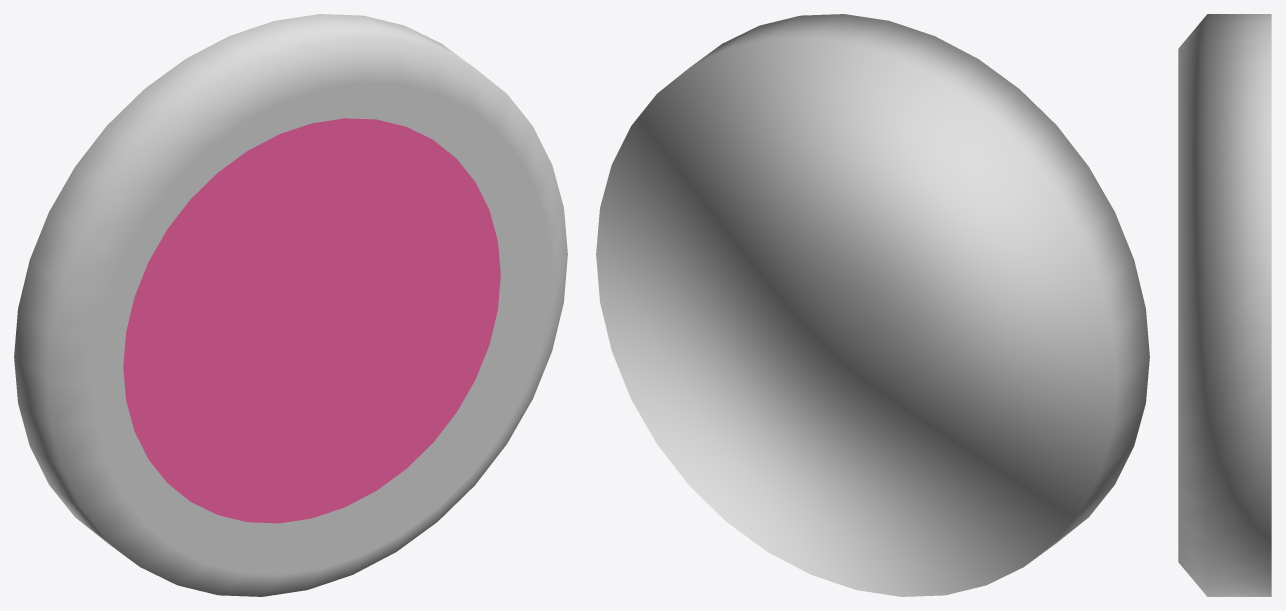
File: osu_medallion_3d.obj
3 renders of one model, left to right at view 1: azimuth 30°, elevation 25°; view 2: azimuth 150°, elevation 25°; view 3: azimuth 270°, elevation 25°, orthographic. The views are drawn at different scales.
Visible parts, largest first — view 1: BevelAndRim, CenterDisc; view 2: BevelAndRim; view 3: BevelAndRim.
Boxes of the visible parts, bbox=[...] form: BevelAndRim: bbox=[14, 14, 567, 596]; CenterDisc: bbox=[123, 118, 500, 523]; BevelAndRim: bbox=[596, 14, 1149, 596]; BevelAndRim: bbox=[1178, 14, 1271, 596].
Bounding box in the file's own units: 2 × 2 × 0.32.
